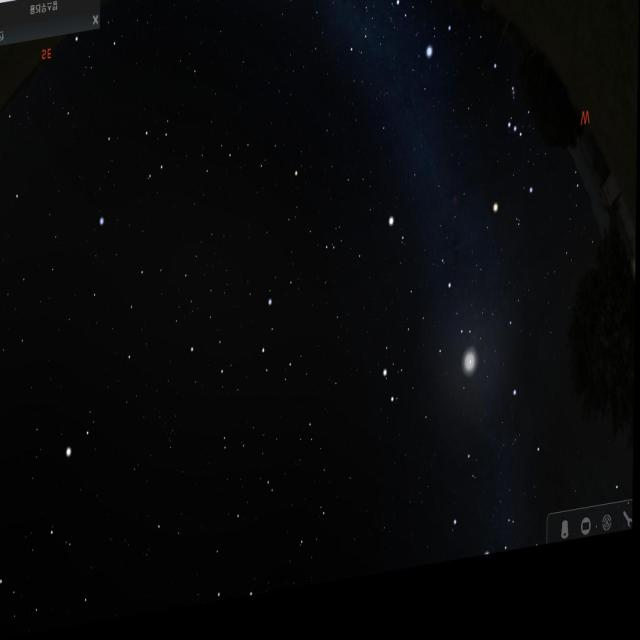bootes: (19, 436, 100, 637)
canis_major: (385, 0, 462, 94)
canis_minor: (381, 214, 415, 270)
gemini: (378, 285, 472, 429)
leo: (182, 278, 300, 423)
moon: (461, 353, 486, 408)
orion: (489, 73, 551, 233)
